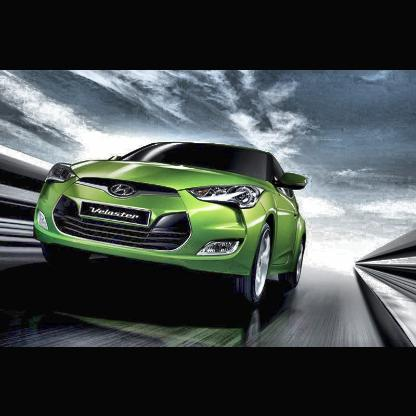Hyundai Veloster Hatchback 2012: (32, 141, 310, 300)
